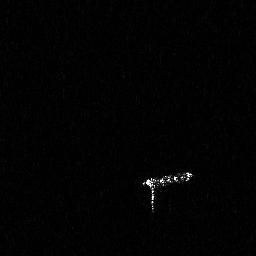ship: (141, 169, 196, 213)
